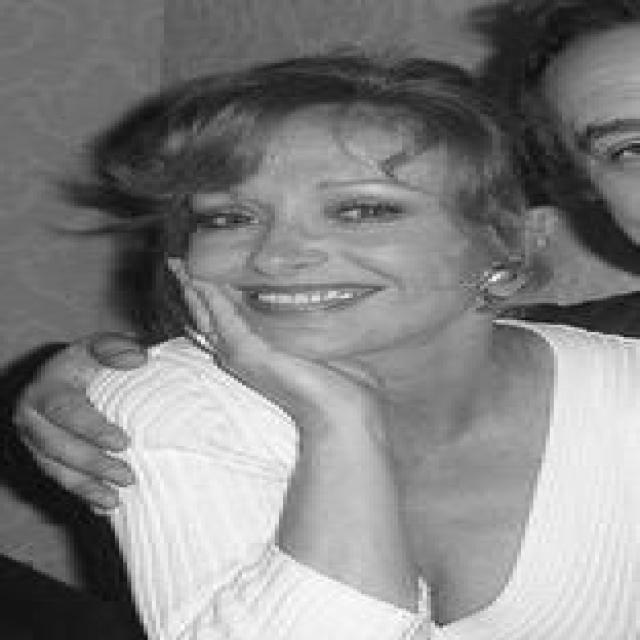real: (178, 154, 476, 358)
